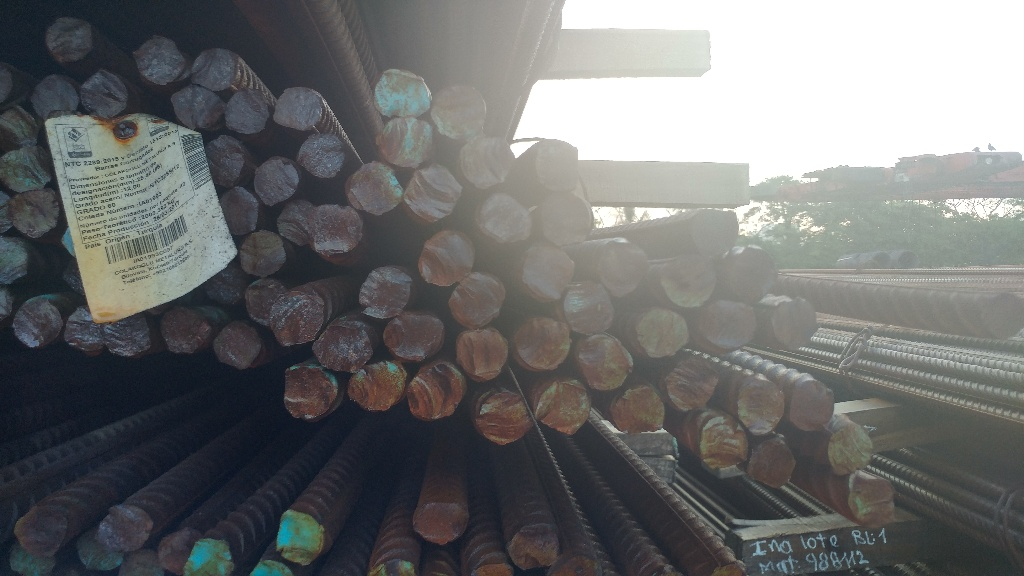dipstick: (406, 363, 465, 422), (403, 166, 462, 224), (474, 387, 531, 446), (344, 161, 406, 214), (380, 313, 446, 362), (357, 264, 413, 321), (448, 274, 506, 329), (420, 228, 474, 286), (348, 358, 404, 413), (431, 87, 488, 141), (578, 337, 634, 391), (522, 245, 576, 301), (665, 357, 718, 414), (454, 330, 509, 384), (310, 323, 373, 370), (308, 203, 362, 257), (596, 239, 647, 296), (284, 366, 336, 420), (516, 318, 572, 368), (96, 503, 153, 552), (697, 416, 749, 469), (534, 383, 588, 434), (565, 280, 615, 335), (271, 291, 321, 346), (739, 379, 786, 437), (660, 258, 715, 307), (477, 195, 532, 244), (377, 118, 433, 166), (374, 69, 431, 115), (704, 301, 757, 350), (462, 138, 515, 187), (276, 512, 324, 566), (634, 309, 689, 356), (726, 245, 775, 297), (14, 512, 69, 558), (541, 194, 592, 243), (168, 87, 226, 130), (772, 297, 819, 350), (133, 37, 186, 84), (415, 499, 468, 545), (747, 439, 795, 489), (161, 308, 211, 356), (533, 142, 580, 193), (9, 191, 61, 237), (612, 387, 663, 433), (12, 300, 59, 349), (827, 425, 873, 475), (790, 380, 835, 431), (101, 315, 152, 360), (214, 321, 260, 370), (80, 70, 126, 119), (848, 474, 893, 524), (64, 306, 108, 357), (74, 525, 126, 568), (238, 230, 284, 278), (689, 209, 738, 254), (1, 149, 50, 194), (45, 15, 92, 61), (256, 156, 298, 207), (508, 527, 559, 568), (203, 138, 245, 187), (272, 89, 322, 130), (245, 277, 285, 327), (32, 75, 79, 117), (296, 136, 344, 177), (191, 49, 236, 92), (226, 91, 271, 133), (8, 542, 60, 576), (183, 540, 232, 576), (158, 530, 202, 569), (222, 189, 259, 233), (203, 266, 243, 305), (277, 202, 309, 249), (986, 293, 1024, 332), (3, 108, 37, 147), (1, 242, 30, 286), (117, 550, 163, 576), (250, 562, 289, 576)
